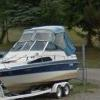Boat: (1, 25, 83, 96)
